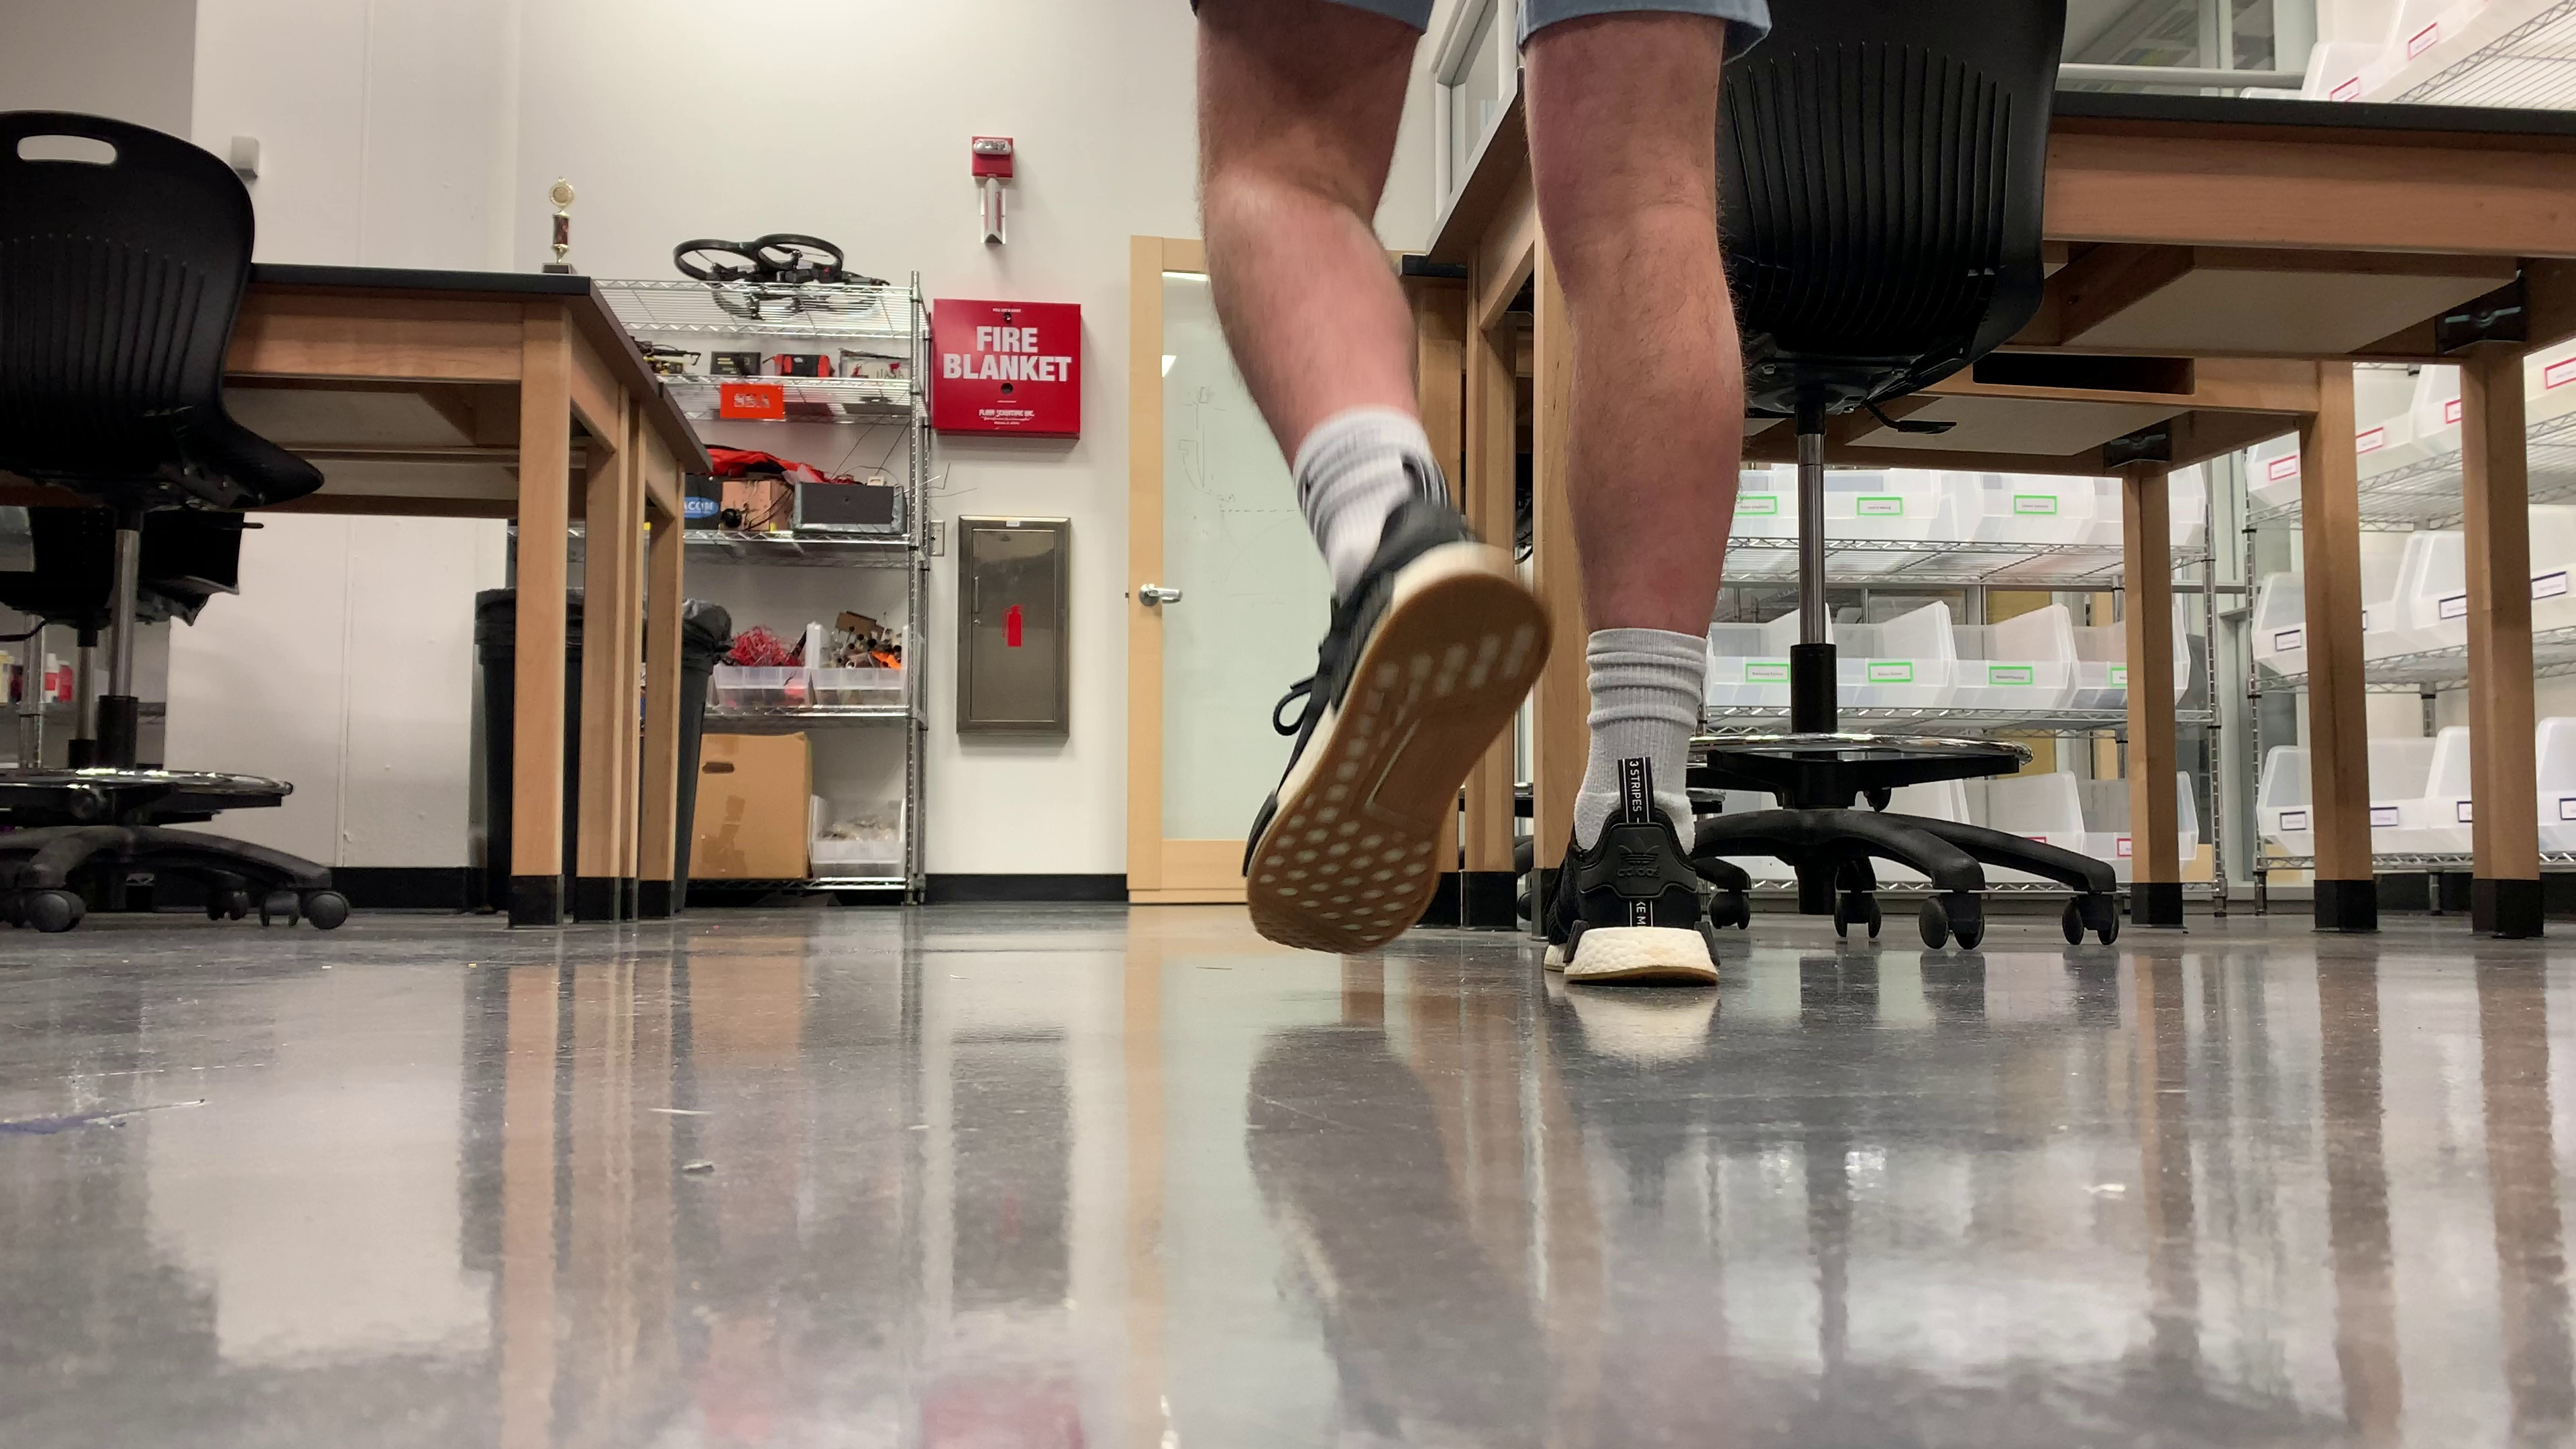shoe: (1244, 495, 1552, 950), (1543, 801, 1720, 982)
